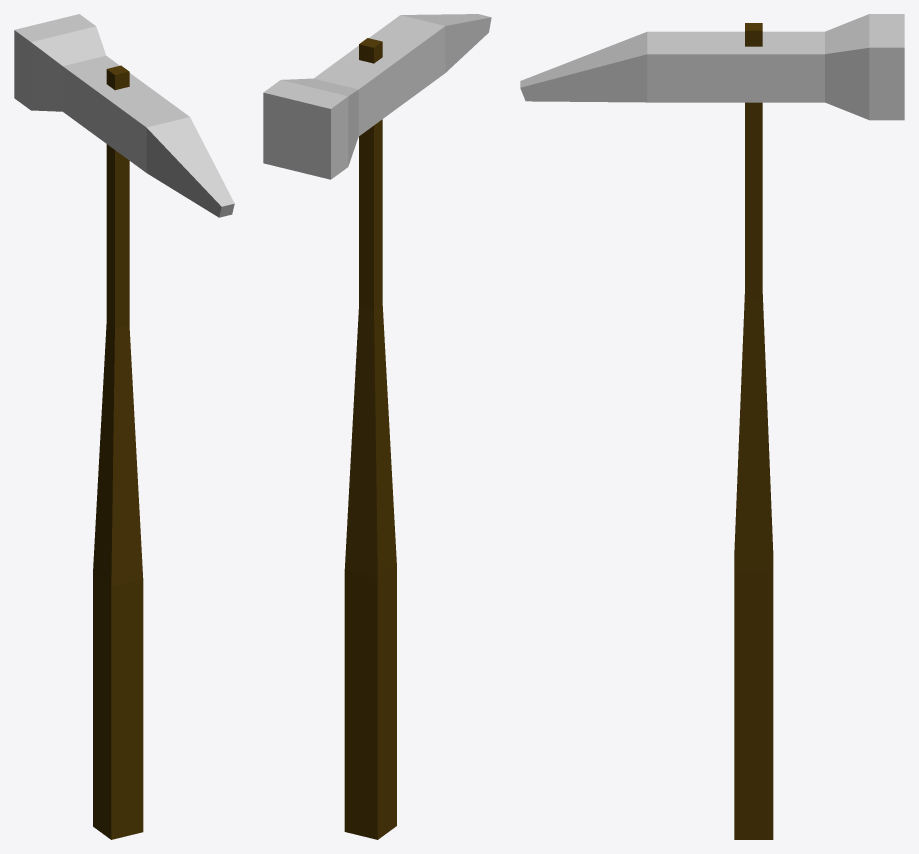
The model's file is Pickaxe.fbx.
3 renders of one model, left to right at view 1: azimuth 30°, elevation 25°; view 2: azimuth 150°, elevation 25°; view 3: azimuth 270°, elevation 25°, orthographic. The views are drawn at different scales.
Visible parts, largest first — view 1: Axe; view 2: Axe; view 3: Axe.
Boxes of the visible parts, x1=… form: Axe: x1=14, y1=14, x2=234, y2=839; Axe: x1=263, y1=14, x2=491, y2=839; Axe: x1=520, y1=14, x2=904, y2=839.
Size of the model in its own units: 0.09 by 1 by 0.4331.
